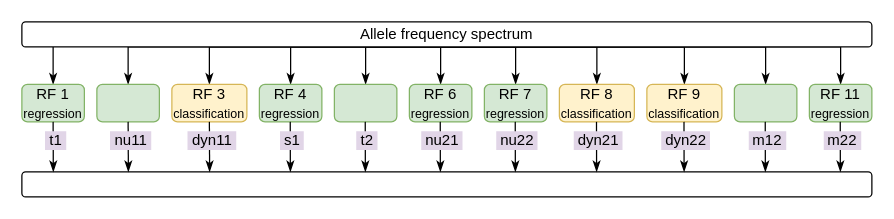
Image size: 894x219. Some labels were removed from this diagram. Here are the shapes that lost their labels. From the top down, the box of each, then its label:
(96, 83, 159, 122): RF 2 regression
(333, 83, 397, 122): RF 5 regression
(733, 83, 797, 122): RF 10 regression
(21, 171, 872, 197): MULTI-OUTPUT MODEL 1 WITH INDEPENDENT PARAMETER PREDICTION
